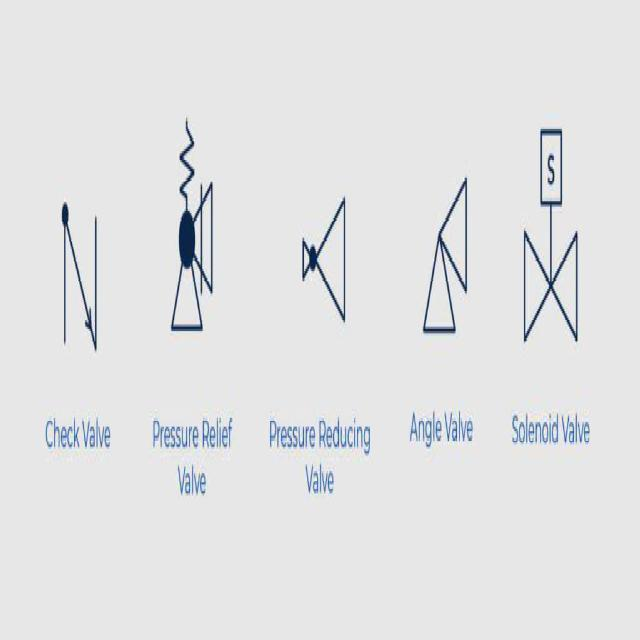Angle Valve: (413, 87, 488, 376)
Check Valve: (46, 149, 109, 386)
PRV: (157, 46, 225, 376), (292, 133, 375, 372)
Solenoid Operated Gate Valve: (516, 73, 594, 370)
